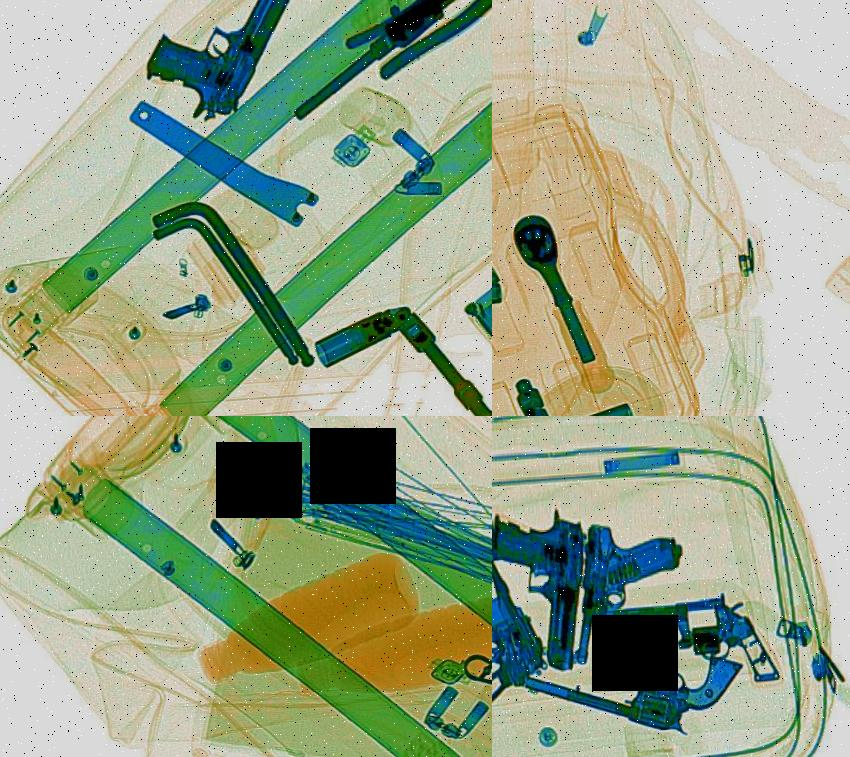Gun: (512, 596, 750, 752), (118, 0, 310, 136), (559, 513, 694, 672), (588, 586, 780, 696), (492, 498, 597, 676), (492, 509, 569, 724), (446, 529, 492, 721)
Pliers: (333, 0, 492, 85)
